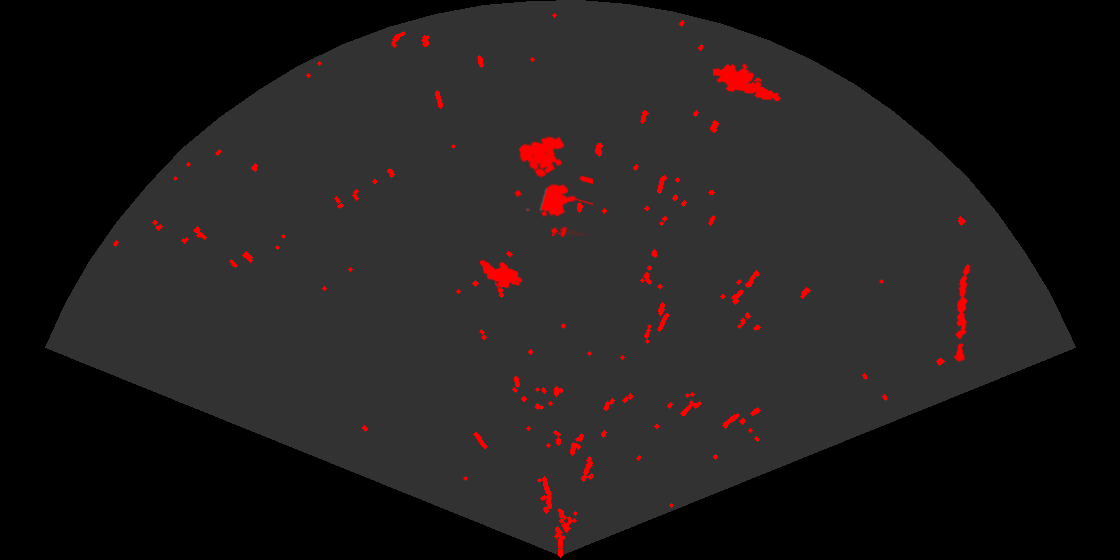AUV: (478, 258, 524, 290)
cage: (513, 135, 593, 236)
chain: (952, 262, 972, 363)
frogman: (713, 62, 782, 103)
